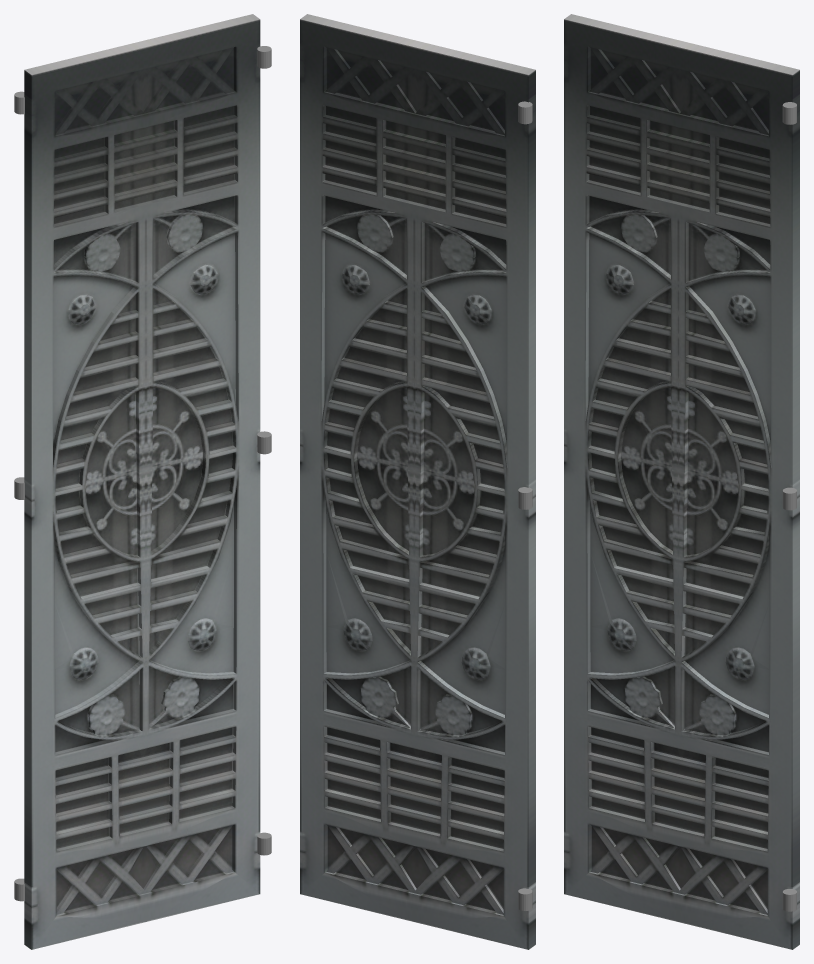
Rendered from EntranceDoorLeft2.fbx.
The picture shows the model from 3 angles, left to right: view 1: azimuth 30°, elevation 25°; view 2: azimuth 150°, elevation 25°; view 3: azimuth 330°, elevation 25°; orthographic projection.
Visible parts, largest first — view 1: EntranceDoorLeft2; view 2: EntranceDoorLeft2; view 3: EntranceDoorLeft2.
Part boxes in pixels (x1,y1,x2,y2): EntranceDoorLeft2: [14, 14, 271, 949]; EntranceDoorLeft2: [300, 14, 535, 949]; EntranceDoorLeft2: [564, 14, 799, 949].
Size of the model in its own units: 97.77 by 338 by 14.72.
Materials: 2 (1 with a texture image).
